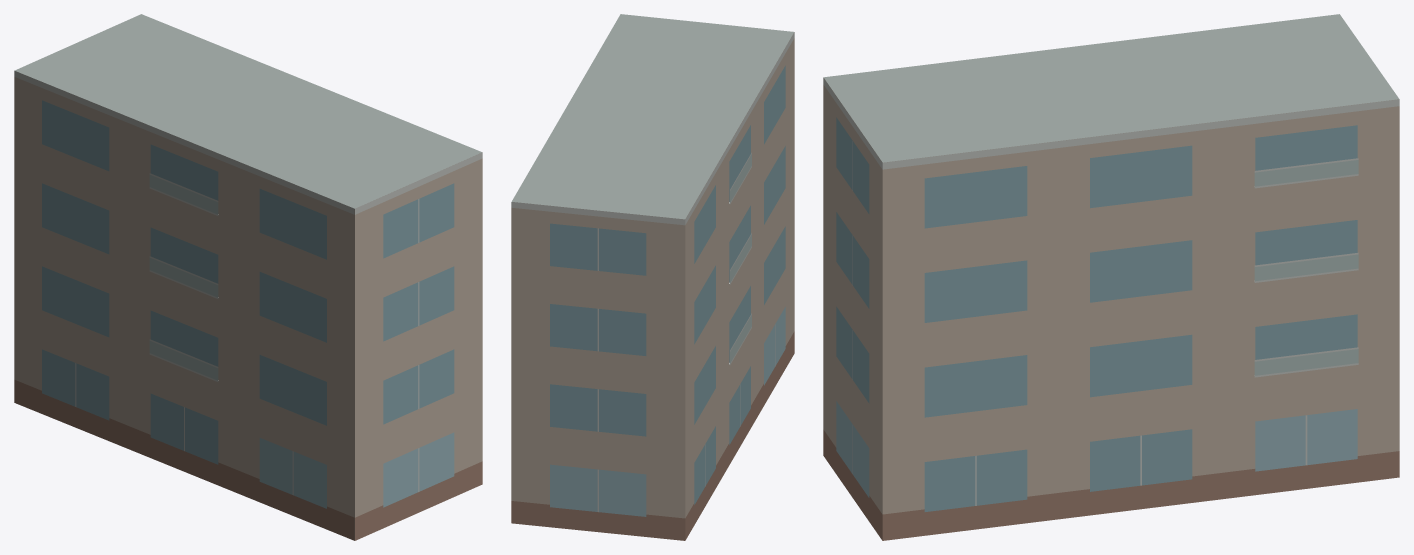
The model's file is survey-upis-32953173.glb.
3 views of the same model, side by side, from view 1: azimuth 30°, elevation 25°; view 2: azimuth 150°, elevation 25°; view 3: azimuth 270°, elevation 25° (orthographic). The views are drawn at different scales.
Parts seen in each view (by area): view 1: survey-upis-32953173.tmp; view 2: survey-upis-32953173.tmp; view 3: survey-upis-32953173.tmp.
Boxes of the visible parts, x1,y1,x2,y2 form: survey-upis-32953173.tmp: (14, 14, 482, 540); survey-upis-32953173.tmp: (511, 14, 794, 540); survey-upis-32953173.tmp: (823, 14, 1399, 540).
Size of the model in its own units: 11.13 by 13.2 by 18.23.
